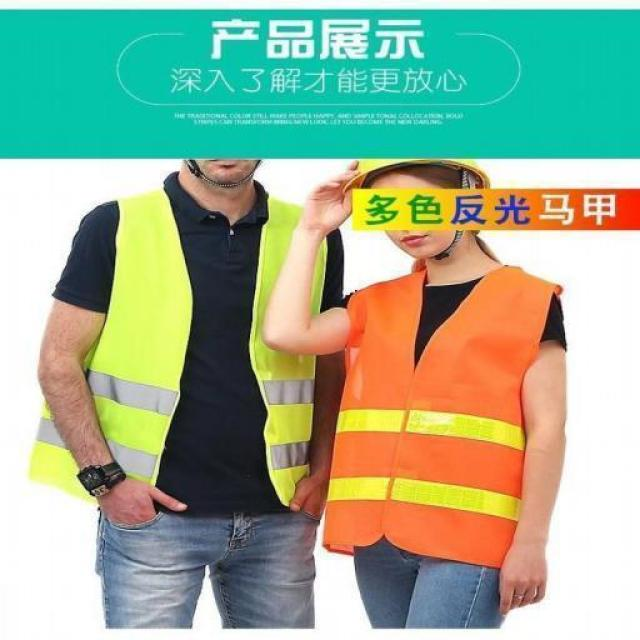hand_noglove: (490, 538, 554, 620), (298, 156, 367, 230)
vest: (24, 176, 338, 522), (330, 266, 568, 576)
